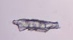microplastic: (11, 18, 61, 33)
